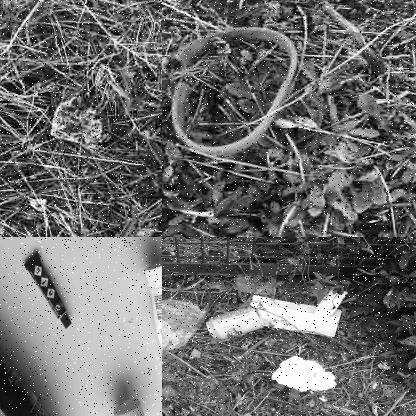metal: (0, 287, 75, 415), (209, 304, 262, 338)
plastic: (168, 22, 298, 154), (251, 292, 346, 339), (23, 246, 72, 332), (52, 102, 104, 148), (162, 296, 202, 352), (113, 397, 152, 415)
